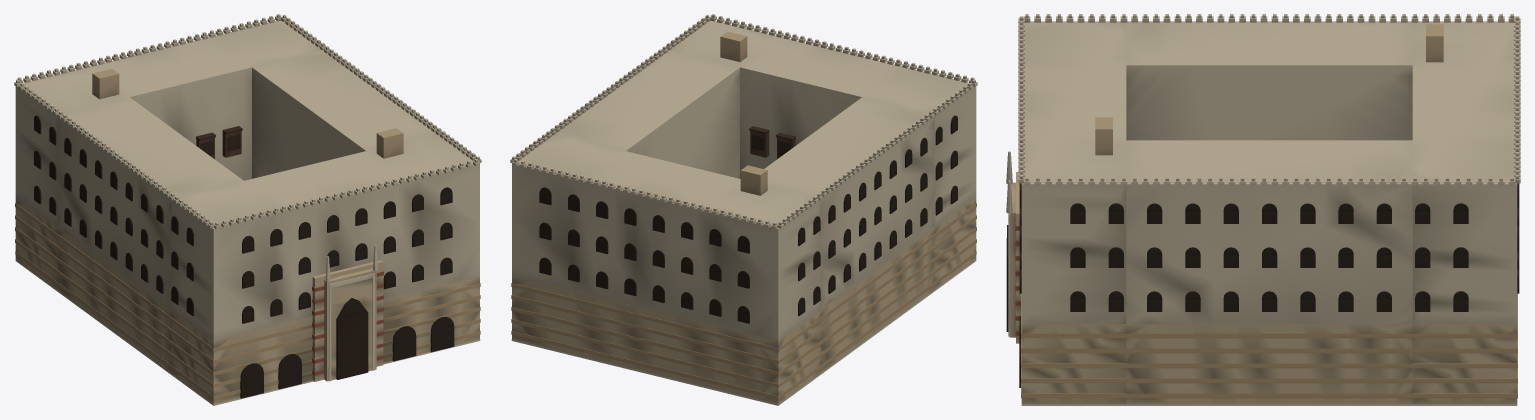
The model's file is wikala-al-ghuri.glb.
3 views of the same model, side by side, from view 1: azimuth 30°, elevation 25°; view 2: azimuth 150°, elevation 25°; view 3: azimuth 270°, elevation 25° (orthographic). The views are drawn at different scales.
Parts seen in each view (by area): view 1: p2_apartments, p1_storerooms, p3_portal, p0_ground; view 2: p2_apartments, p1_storerooms, p3_portal, p0_ground; view 3: p2_apartments, p1_storerooms, p3_portal, p0_ground.
Boxes of the visible parts, x1,y1,x2,y2 form: p2_apartments: (14,14,481,340); p1_storerooms: (15,196,480,404); p3_portal: (92,69,403,381); p0_ground: (15,260,480,405); p2_apartments: (510,14,977,340); p1_storerooms: (511,196,976,404); p3_portal: (720,31,767,195); p0_ground: (511,260,976,405); p2_apartments: (1018,14,1520,324); p1_storerooms: (1019,293,1517,403); p3_portal: (1006,24,1443,343); p0_ground: (1021,404,1517,405).
Size of the model in its own units: 35.6 by 24.8 by 46.69.
